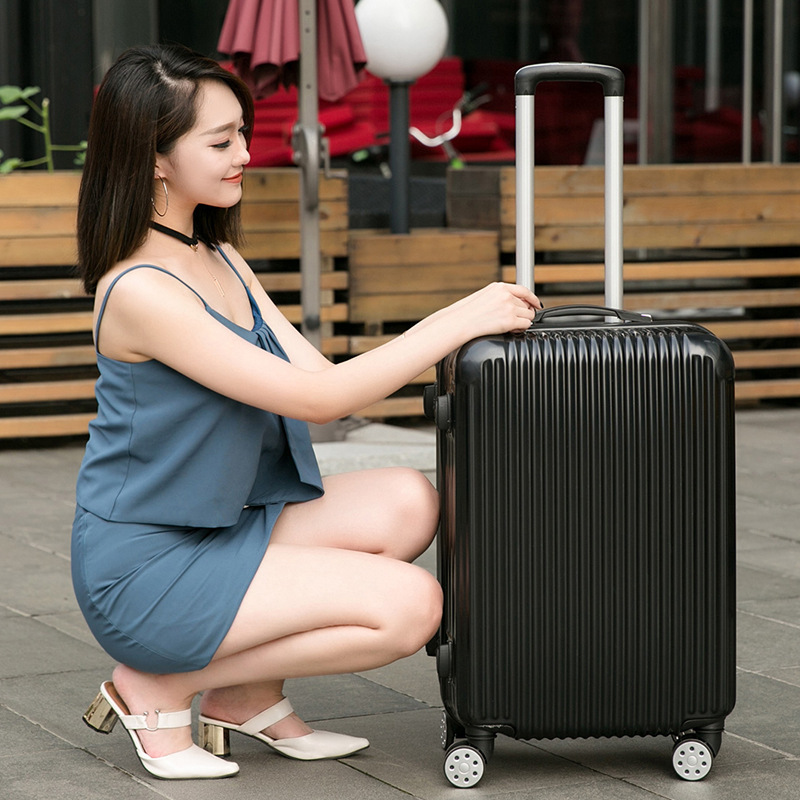box: (435, 321, 737, 741)
handle: (531, 304, 654, 327)
wheel: (443, 740, 488, 789), (671, 735, 714, 782)
